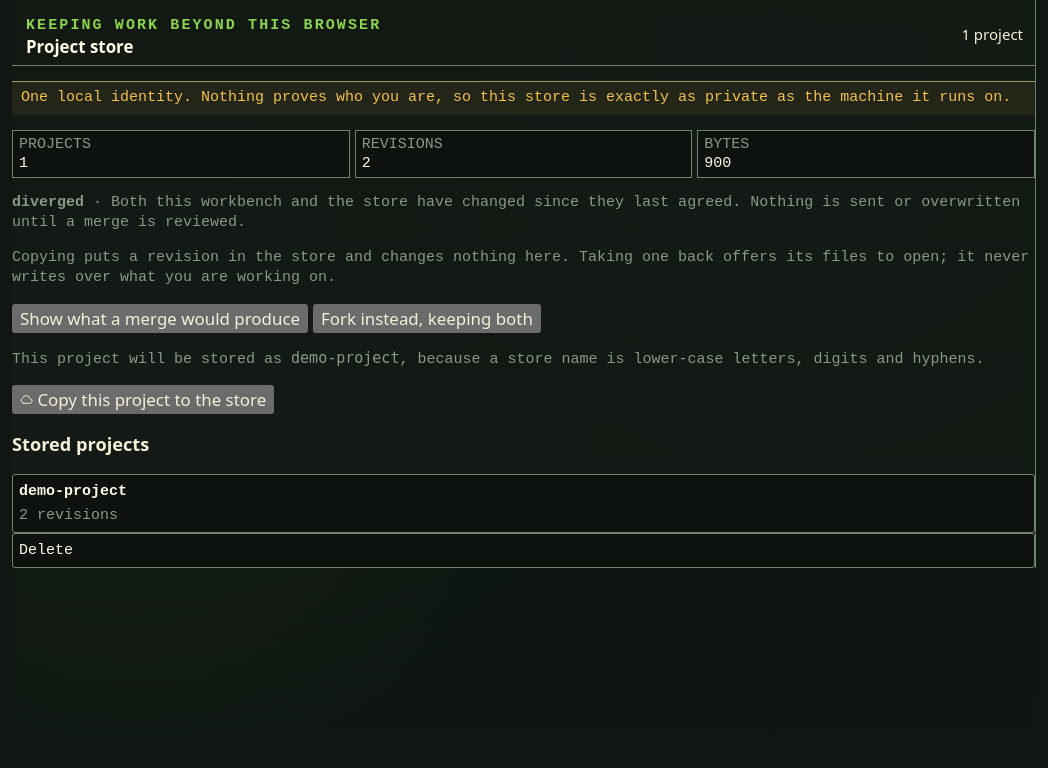
Scenario: what state the project is in with the store › says diverged and offers a merge preview once both sides have moved
Click the button "Show what a merge would produce" at (160, 318), box 12,304 -> 308,332
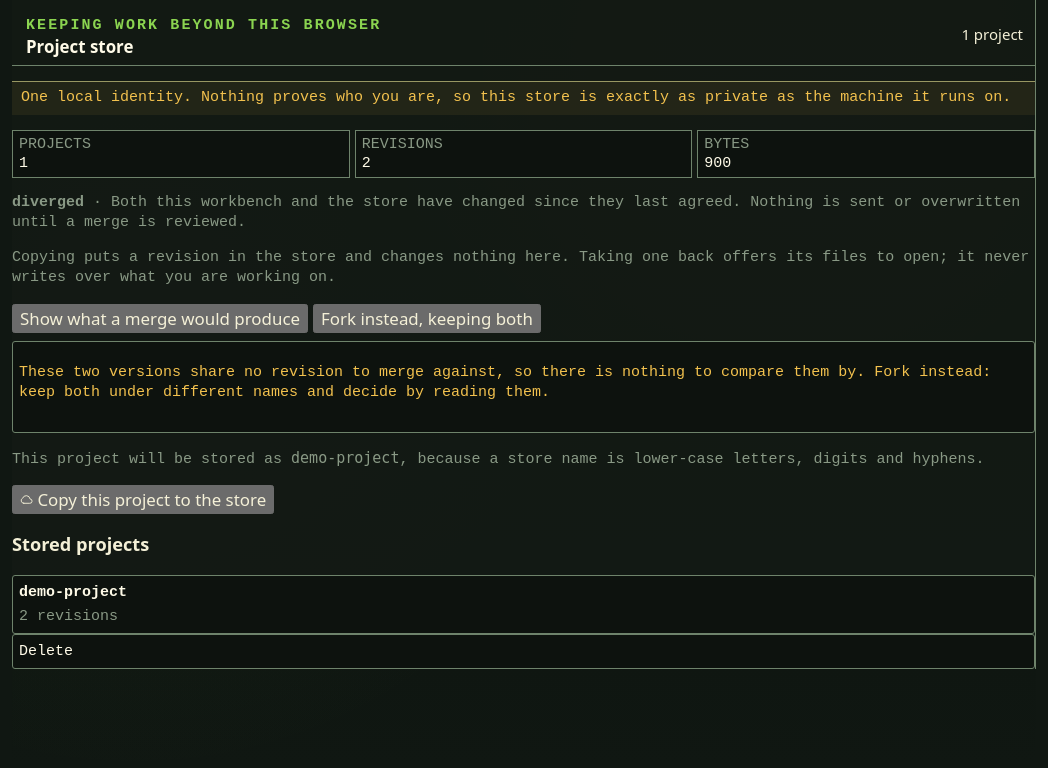
Check: the element named "Merge preview" is shown, box 12,340 -> 1035,433
Check: the text "share no revision to merge against" is shown, box 19,364 -> 991,401
